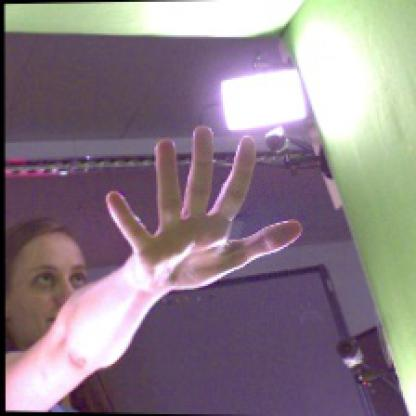Hand: (105, 124, 303, 292)
